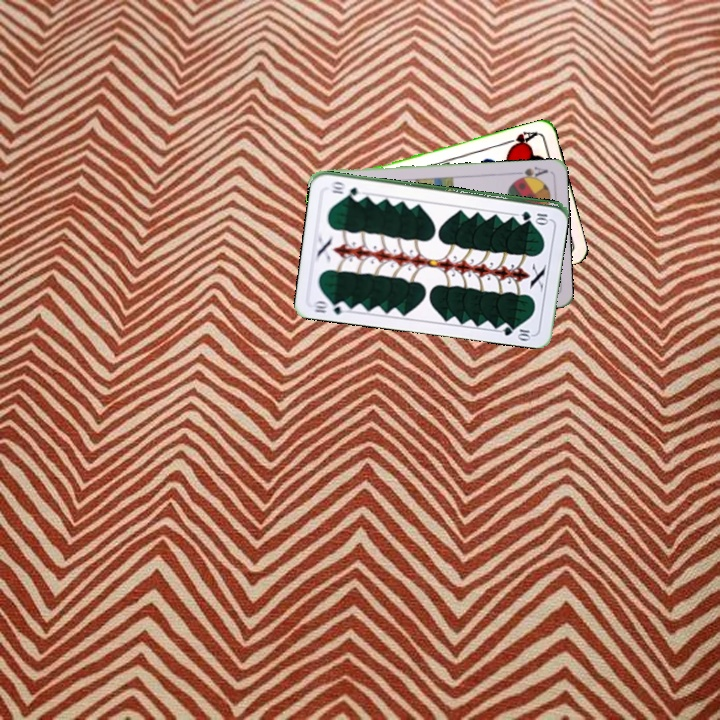G10: (311, 296, 350, 317), (517, 207, 552, 223)
HA: (500, 127, 540, 152)
SA: (510, 163, 550, 184)
